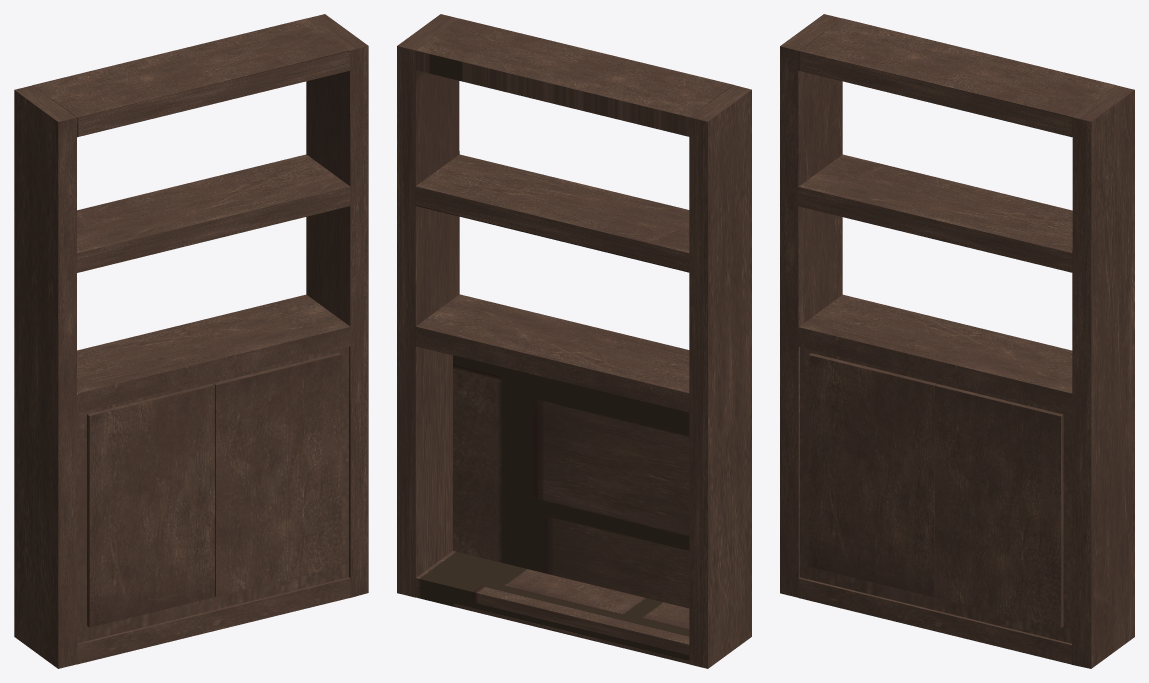
The model's file is SmallTable2.fbx.
The picture shows the model from 3 angles, left to right: view 1: azimuth 30°, elevation 25°; view 2: azimuth 150°, elevation 25°; view 3: azimuth 330°, elevation 25°; orthographic projection.
Visible parts, largest first — view 1: DoorR; view 2: DoorR; view 3: DoorR.
Part boxes in pixels (left/top/right/bottom): DoorR: left=14, top=14, right=368, bottom=668; DoorR: left=397, top=14, right=751, bottom=668; DoorR: left=780, top=14, right=1134, bottom=668.
Size of the model in its own units: 200 by 337 by 50.66.
